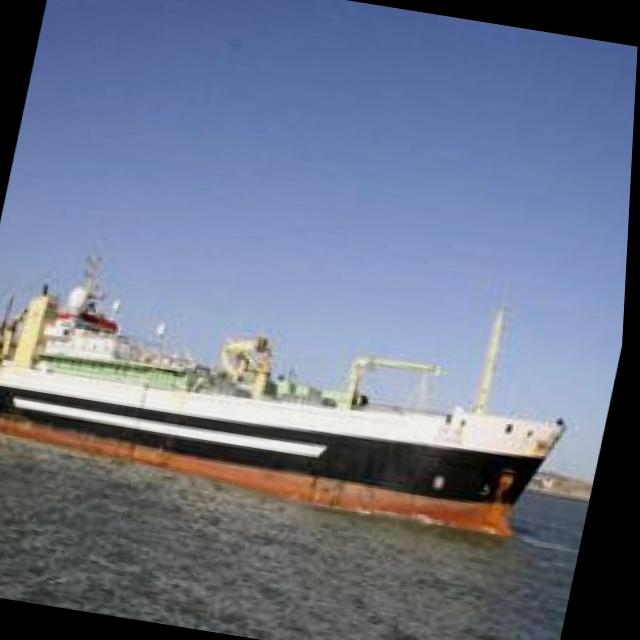ship2: (0, 246, 571, 538)
